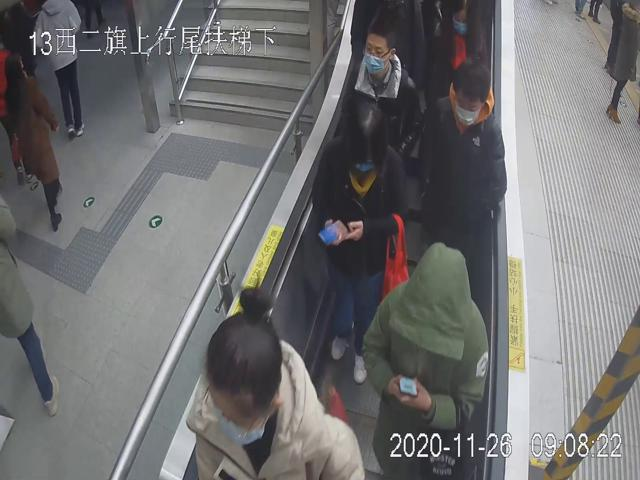person: (361, 239, 490, 480), (308, 97, 408, 385), (416, 56, 508, 265), (339, 14, 423, 164), (3, 48, 64, 231), (416, 0, 493, 108)
